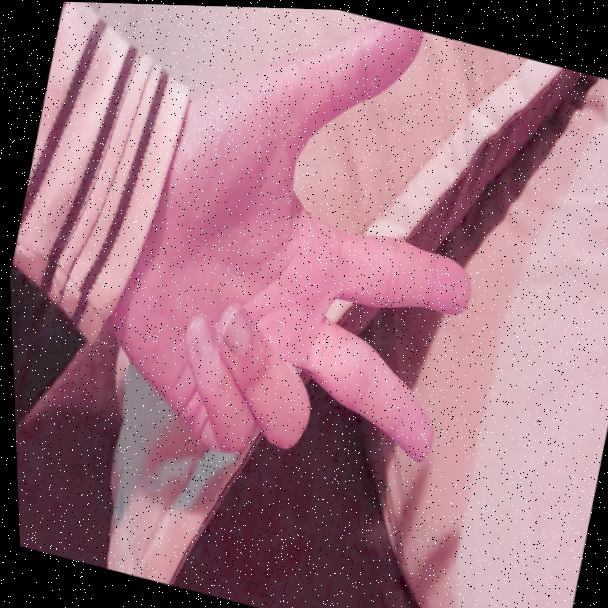three: (86, 2, 533, 507)
